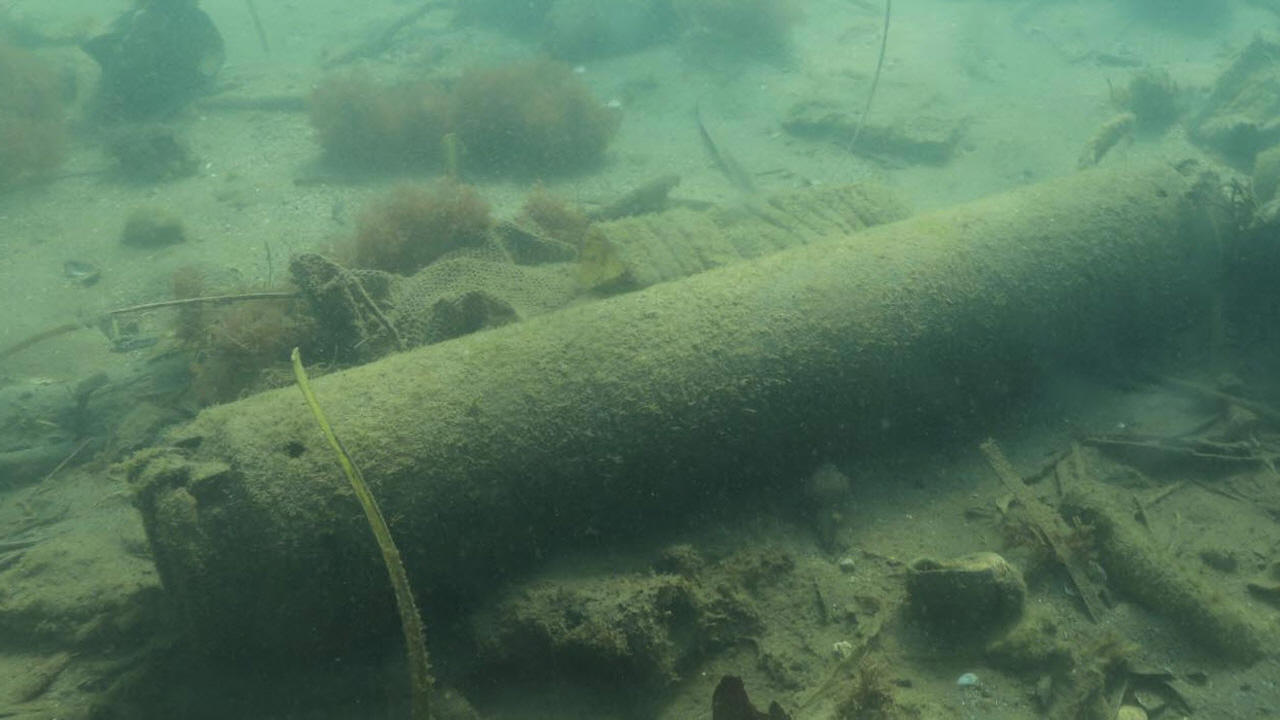eel fish trap: (128, 158, 1233, 662)
rope: (1078, 110, 1134, 167)
